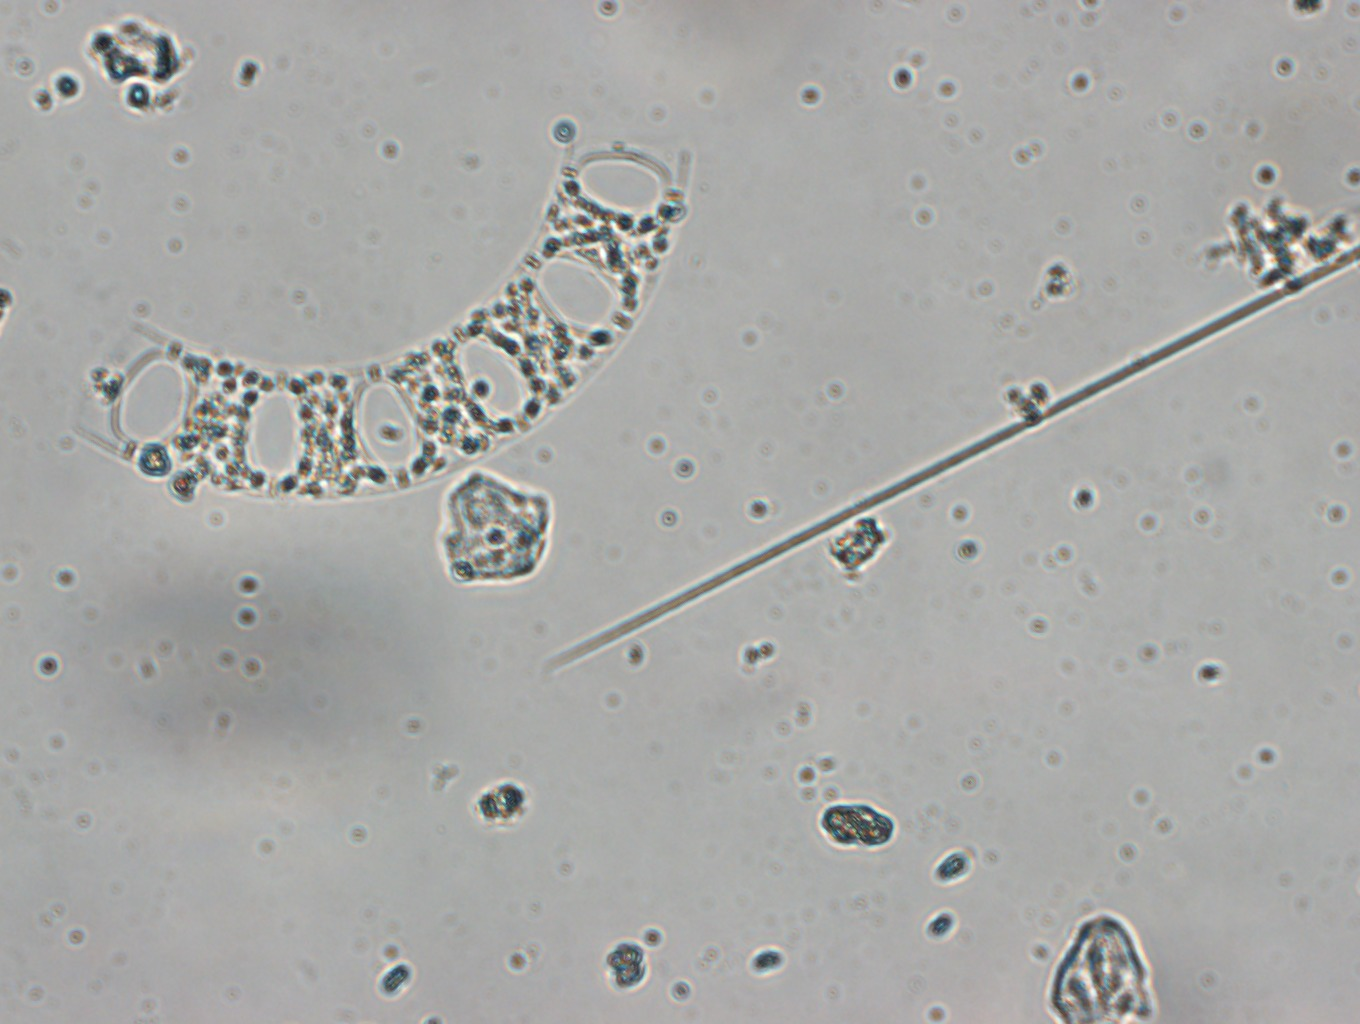eucampia: (59, 143, 698, 517)
